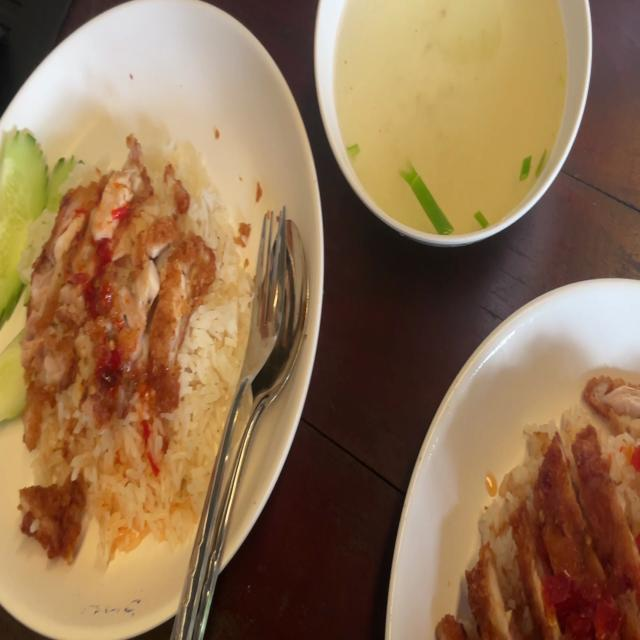chicken_rice: (0, 126, 262, 568), (435, 370, 639, 640)
cucumber: (0, 125, 84, 322), (0, 318, 30, 422)
fried_chicken: (440, 380, 640, 640), (36, 143, 198, 422), (17, 473, 87, 558)
